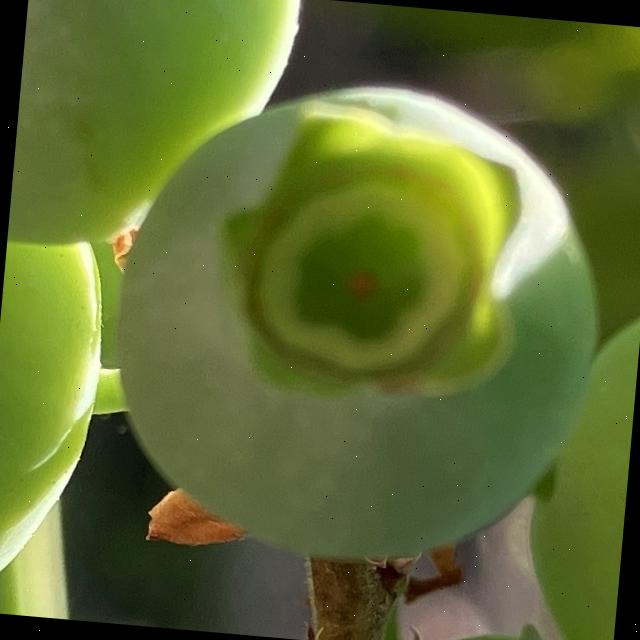Blueberries: (98, 64, 620, 586), (5, 0, 307, 271), (0, 162, 126, 620)
